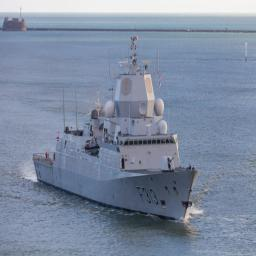Fragata: (30, 29, 200, 226)
